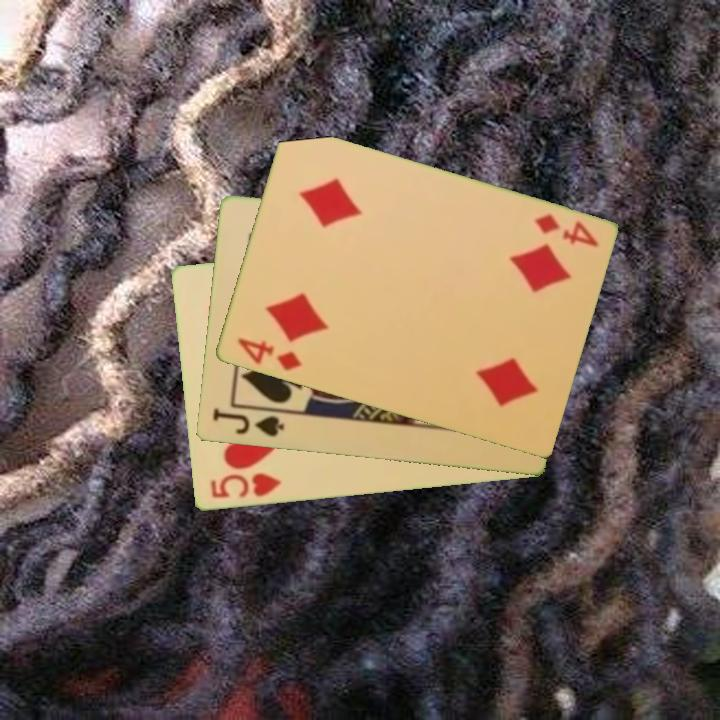4d: (233, 334, 304, 374), (530, 211, 601, 250)
5h: (207, 469, 284, 502)
Js: (208, 405, 287, 440)
